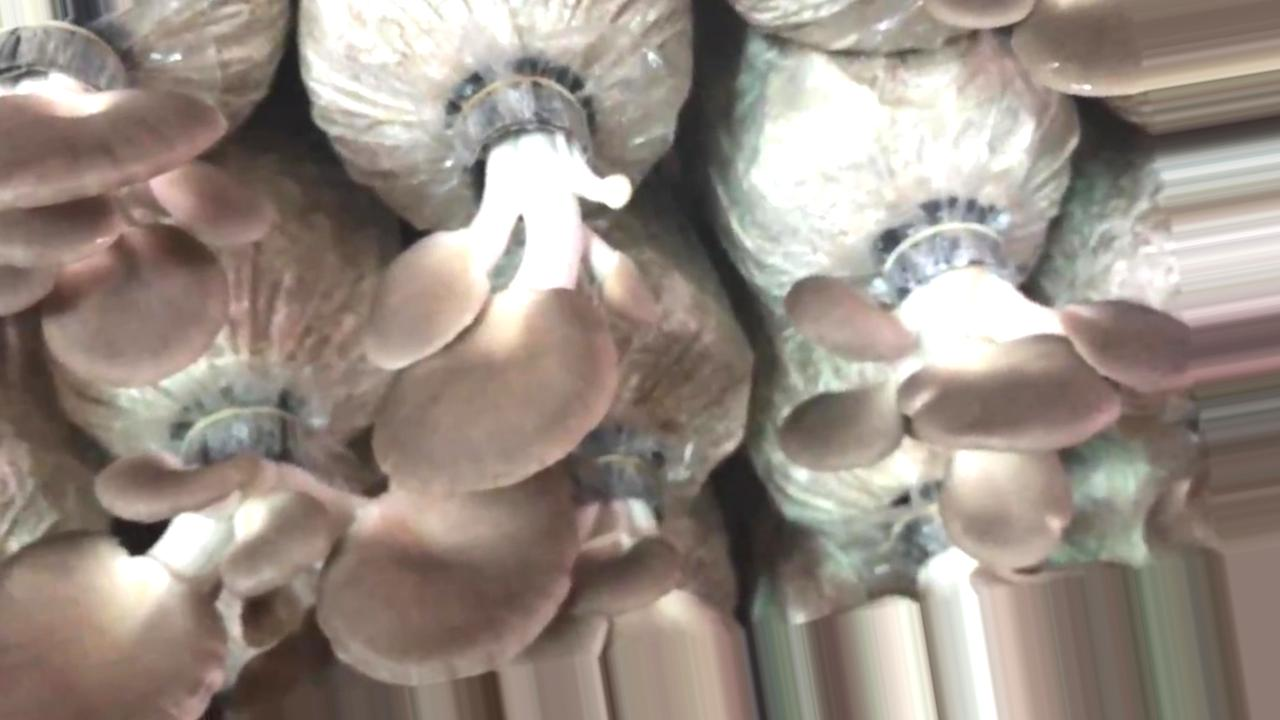nam: (6, 382, 584, 720), (774, 202, 1193, 571), (366, 62, 663, 493), (1, 7, 275, 392), (499, 418, 767, 720)
